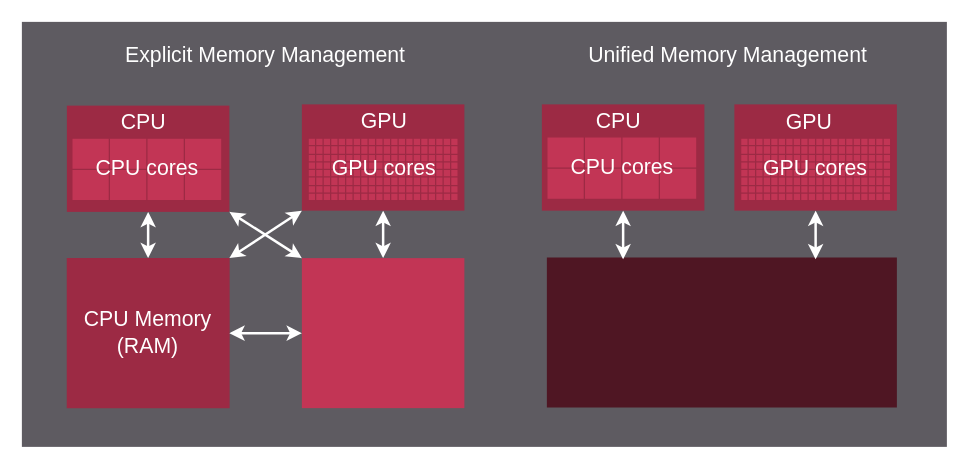
Some shapes in this 968 by 468 pixel diagram are drawn without their labels. The shapes that lost their labels are listed below. From the top down, each one's centre as x and y in pixels, then its label:
(382,333): GPU Memory (HBM)
(721,332): Unified Memory
